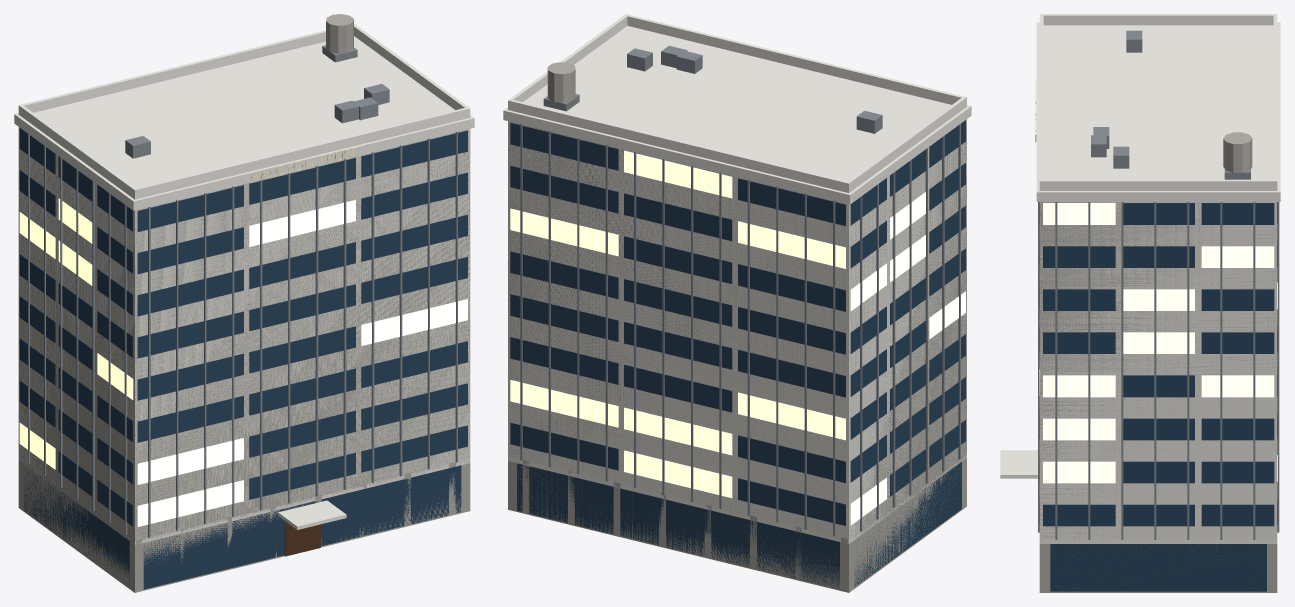
The model's file is BLD_Office_A.fbx.
3 renders of one model, left to right at view 1: azimuth 30°, elevation 25°; view 2: azimuth 150°, elevation 25°; view 3: azimuth 270°, elevation 25°, orthographic. The views are drawn at different scales.
Visible parts, largest first — view 1: BLD_Office_A__BODY, BLD_Office_A__COL_Main, BLD_Office_A__SIGN; view 2: BLD_Office_A__BODY, BLD_Office_A__COL_Main; view 3: BLD_Office_A__BODY, BLD_Office_A__COL_Main.
Part boxes in pixels (x1=…): BLD_Office_A__BODY: x1=14, y1=14, x2=474, y2=591; BLD_Office_A__COL_Main: x1=18, y1=128, x2=470, y2=592; BLD_Office_A__SIGN: x1=251, y1=147, x2=358, y2=182; BLD_Office_A__BODY: x1=503, y1=14, x2=971, y2=592; BLD_Office_A__COL_Main: x1=508, y1=119, x2=966, y2=592; BLD_Office_A__BODY: x1=1000, y1=14, x2=1280, y2=591; BLD_Office_A__COL_Main: x1=1039, y1=202, x2=1277, y2=592.
Bounding box in the file's own units: 30.5 × 36.6 × 21.25.
